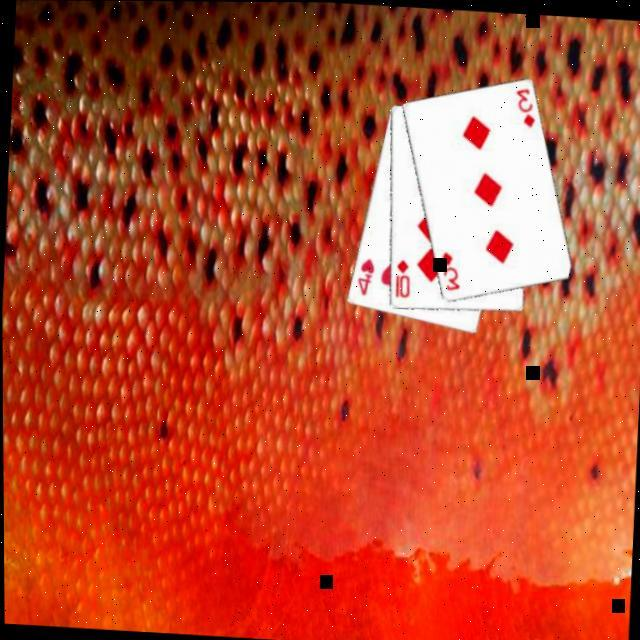10D: (393, 255, 415, 299)
3D: (437, 247, 465, 293), (512, 84, 540, 129)
4H: (354, 254, 378, 297)
